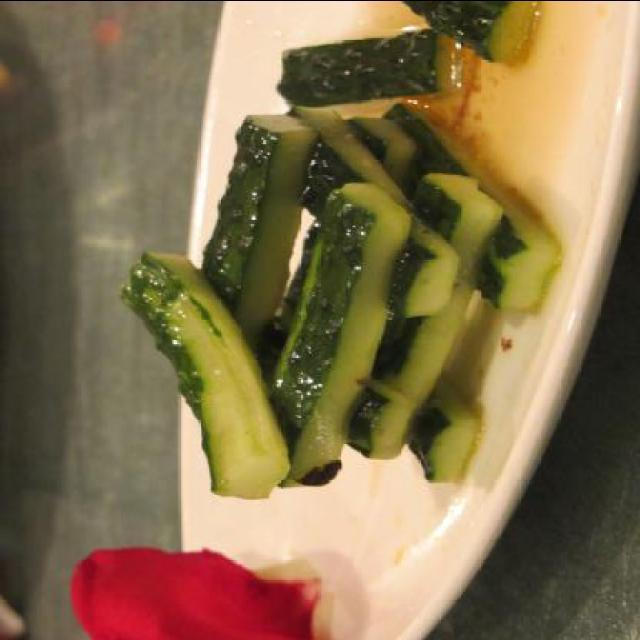Zucchini: (107, 34, 565, 542)
